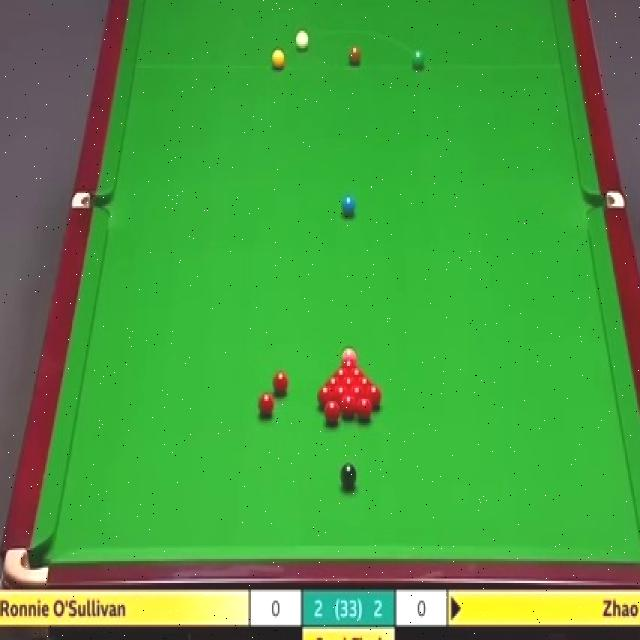black-ball: (338, 461, 356, 488)
blue-ball: (341, 196, 356, 215)
brown-ball: (348, 46, 361, 66)
green-ball: (410, 46, 426, 70)
pink-ball: (342, 348, 357, 364)
red-ball: (321, 399, 341, 424), (258, 392, 274, 417), (363, 384, 380, 407), (272, 371, 289, 394), (341, 393, 356, 418), (317, 385, 332, 408), (357, 398, 372, 421), (350, 386, 365, 408), (327, 376, 339, 389), (342, 361, 354, 374), (343, 377, 354, 390)
white-ball: (296, 28, 308, 48)
yellow-ball: (271, 48, 285, 71)
